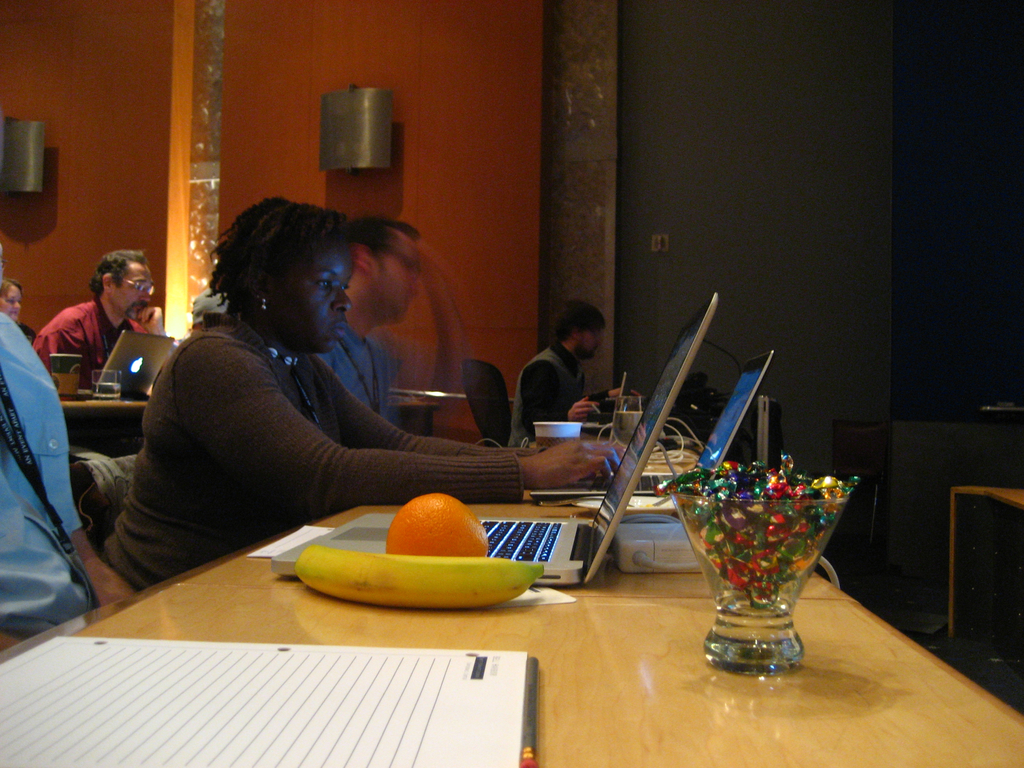Ripe: (377, 497, 478, 573)
